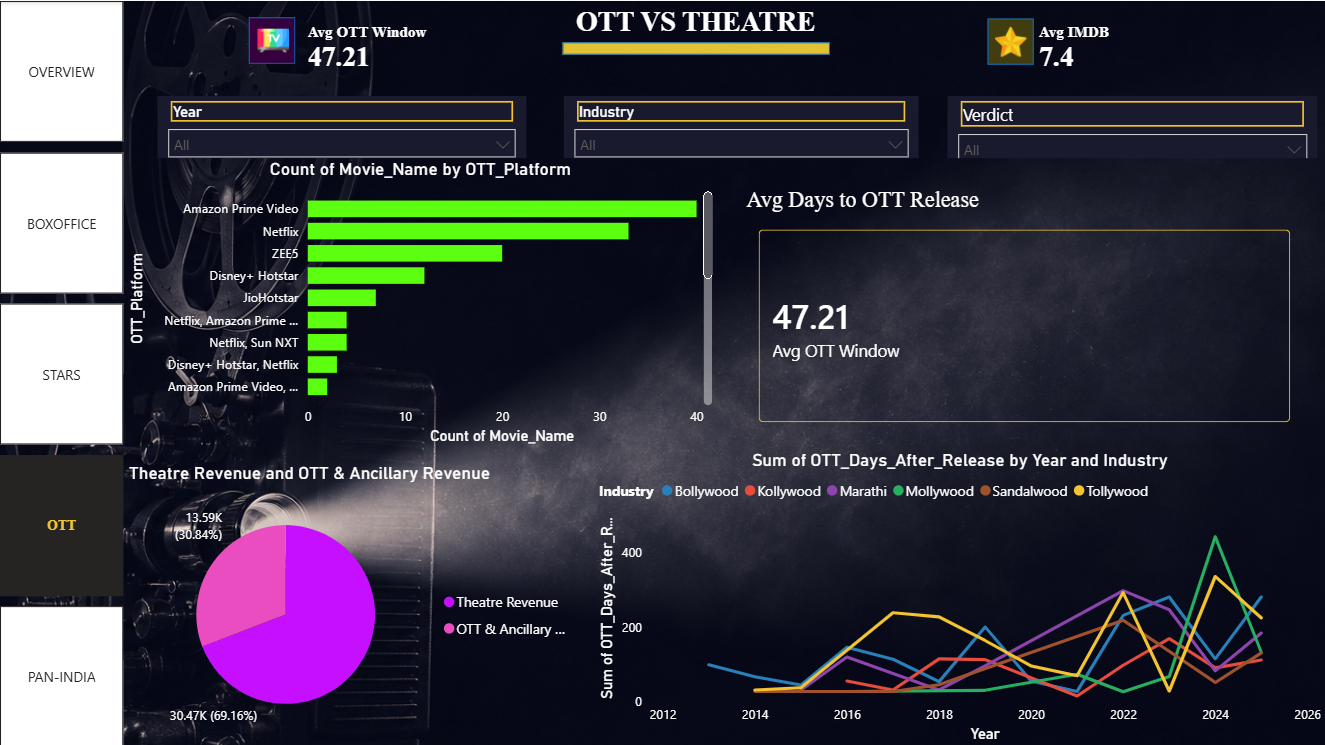

This screenshot's page, from the dashboard's own definition file:
{"tool":"powerbi","page":{"name":"OTT","canvas":[1280,720],"ordinal":3},"visuals":[{"type":"shape","box":[240.1,15.7,45,45],"z":0,"group":"g3"},{"type":"lineChart","fields":{"Category":["Movies.Year"],"Y":["Sum(Movies.OTT_Days_After_Release)"],"Series":["Movies.Industry"]},"box":[573.1,433.1,707,287.1],"z":0},{"type":"image","box":[248.6,23,30.4,30.4],"z":1000,"group":"g3"},{"type":"barChart","fields":{"Category":["Movies.OTT_Platform"],"Y":["CountNonNull(Movies.Movie_Name)"]},"box":[119.4,152,573.1,281.1],"z":1000},{"type":"pieChart","fields":{"Y":["Sum(Movies.Collection_India_Cr)","Movies.OTT Value"]},"box":[119.4,445.2,444,275.1],"z":2000},{"type":"cardVisual","title":"Avg Days to OTT Release","fields":{"Data":["Movies.Avg OTT Window"]},"box":[715.4,179.8,547.7,244.9],"z":3000},{"type":"pageNavigator","box":[0,0,119.4,720],"z":4000},{"type":"textbox","box":[521.2,0,300.4,51.9],"z":5000},{"type":"shape","box":[542.9,39.8,258.2,12.1],"z":6000},{"type":"slicer","fields":{"Values":["Movies.Year"]},"box":[152,91.7,355.9,60.3],"z":7000},{"type":"slicer","fields":{"Values":["Movies.Industry"]},"box":[544.1,91.7,342.6,60.3],"z":8000},{"type":"slicer","fields":{"Values":["Movies.Verdict"]},"box":[914.5,91.7,357.1,60.3],"z":9000},{"type":"group","id":"g1","title":"Group 12","box":[240.1,15.7,203.9,59.1],"z":10000},{"type":"textbox","box":[997.7,15.7,159.3,59.1],"z":10000,"group":"g2"},{"type":"group","id":"g2","title":"Group 9","box":[953.1,15.7,203.9,59.1],"z":11000},{"type":"shape","box":[953.1,16.9,44.6,44.6],"z":12000,"group":"g4"},{"type":"textbox","box":[292,15.7,152,59.1],"z":13000,"group":"g1"},{"type":"image","box":[957.9,24.1,35,30.2],"z":13000,"group":"g4"},{"type":"group","id":"g3","title":"Group 2","box":[240.1,15.7,45,45],"z":15000,"group":"g1"},{"type":"group","id":"g4","title":"Group 5","box":[953.1,16.9,44.6,44.6],"z":18000,"group":"g2"}]}

Visuals, with their boxes in screenshot pixels (x1, y1, x2, y2), scaled from the page's 1280x720 canvas onto the 1325x745 screenshot:
shape: l=249, t=16, r=295, b=63
lineChart - Movies.Year x Sum(Movies.OTT_Days_After_Release): l=593, t=448, r=1324, b=744
image: l=257, t=24, r=289, b=55
barChart - Movies.OTT_Platform x CountNonNull(Movies.Movie_Name): l=124, t=157, r=717, b=448
pieChart - Sum(Movies.Collection_India_Cr) x Movies.OTT Value: l=124, t=461, r=583, b=744
"Avg Days to OTT Release" cardVisual: l=741, t=186, r=1308, b=439
pageNavigator: l=0, t=0, r=124, b=744
textbox: l=540, t=0, r=850, b=54
shape: l=562, t=41, r=829, b=54
slicer - Movies.Year: l=157, t=95, r=526, b=157
slicer - Movies.Industry: l=563, t=95, r=918, b=157
slicer - Movies.Verdict: l=947, t=95, r=1316, b=157
"Group 12" group: l=249, t=16, r=460, b=77
textbox: l=1033, t=16, r=1198, b=77
"Group 9" group: l=987, t=16, r=1198, b=77
shape: l=987, t=17, r=1033, b=64
textbox: l=302, t=16, r=460, b=77
image: l=992, t=25, r=1028, b=56
"Group 2" group: l=249, t=16, r=295, b=63
"Group 5" group: l=987, t=17, r=1033, b=64
